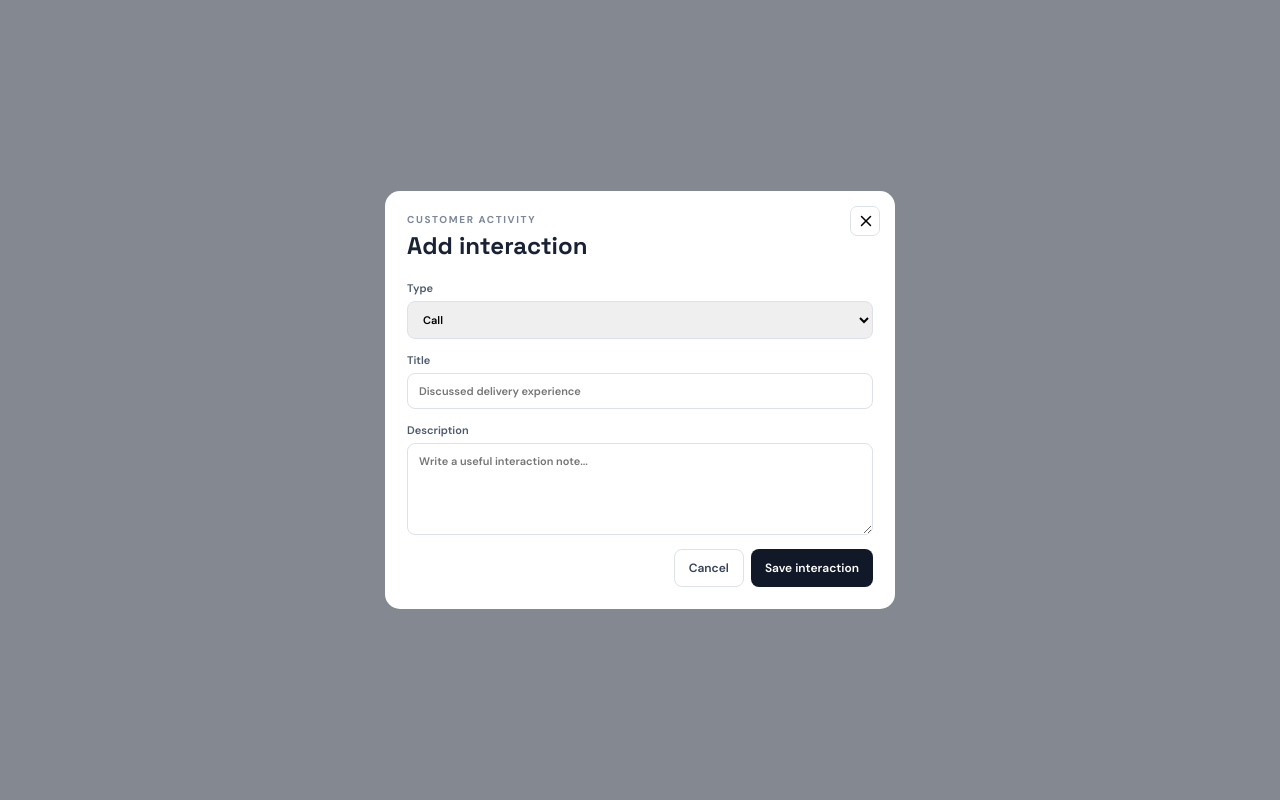
Test: InteractionModal Component › validates empty title
The width and height of the screenshot is (1280, 800).
Step 1. Click the button "Save interaction" → (812, 568), box [751,549,873,587]
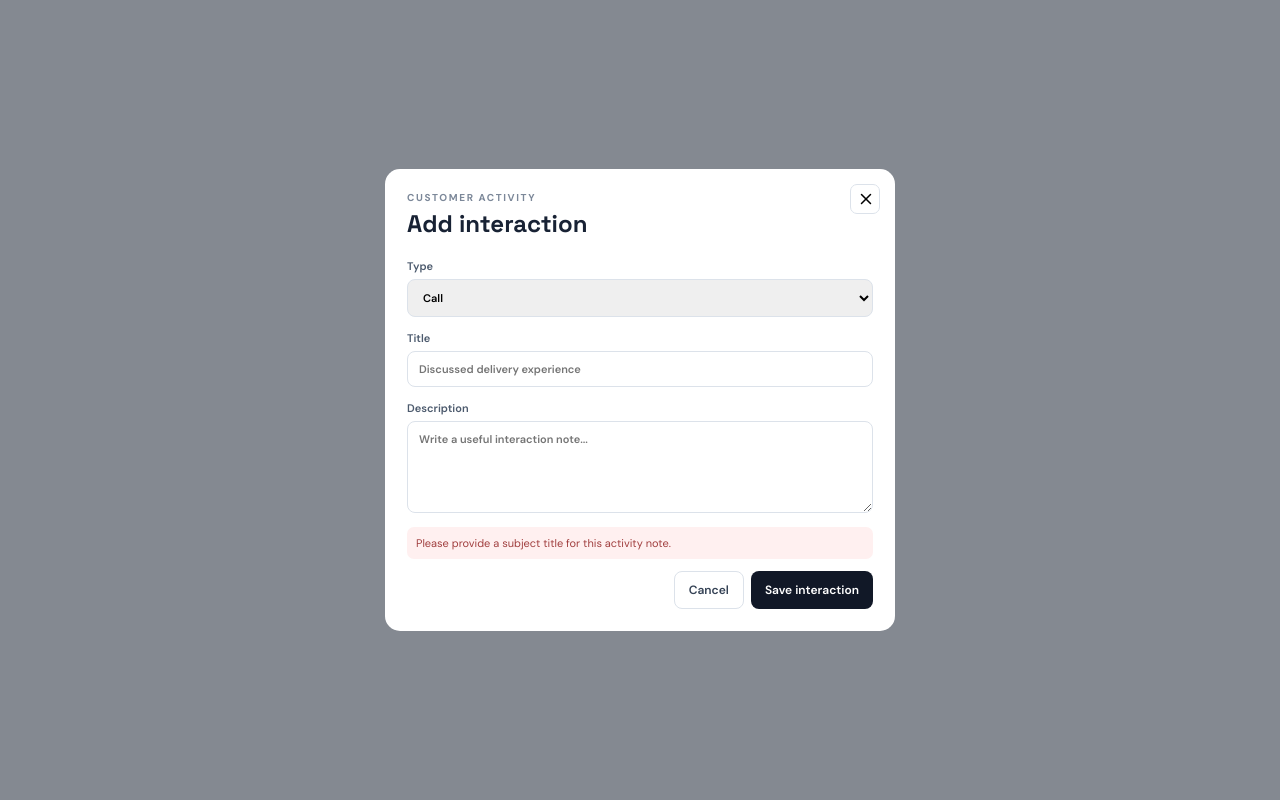
Result: the text "Please provide a subject title for this activity note." is shown at [407,527,873,559]
